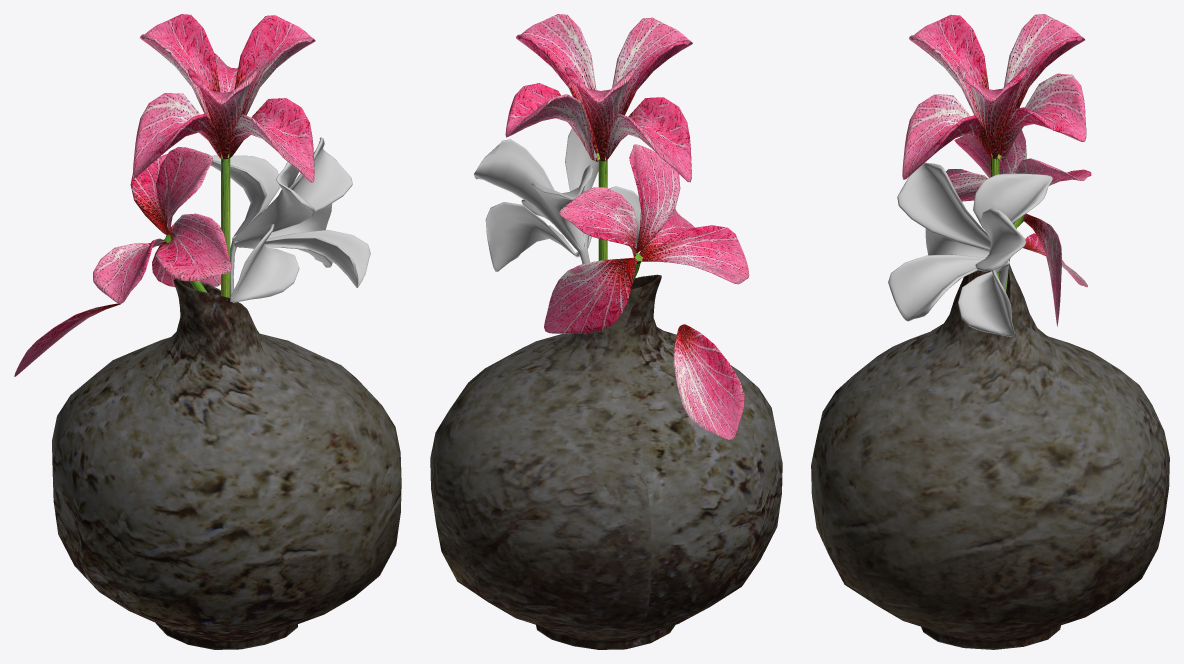
3 views of the same model, side by side, from view 1: azimuth 30°, elevation 25°; view 2: azimuth 150°, elevation 25°; view 3: azimuth 270°, elevation 25° (orthographic).
Visible parts, largest first — view 1: Vase, TallFlower_2, TallFlower_1, FlowerBase_PartialHead, FallingPetal; view 2: Vase, TallFlower_2, FlowerBase_PartialHead, TallFlower_1, FallingPetal; view 3: Vase, TallFlower_2, TallFlower_1, FlowerBase_PartialHead.
Part boxes in pixels (box(x1,y1,x2,y2)): Vase: box(52, 278, 401, 649); TallFlower_2: box(133, 14, 315, 297); TallFlower_1: box(210, 137, 370, 302); FlowerBase_PartialHead: box(93, 147, 231, 303); FallingPetal: box(14, 303, 120, 376); Vase: box(430, 274, 782, 649); TallFlower_2: box(505, 14, 692, 260); FlowerBase_PartialHead: box(544, 144, 749, 333); TallFlower_1: box(473, 128, 640, 271); FallingPetal: box(673, 324, 744, 439); Vase: box(811, 265, 1169, 649); TallFlower_2: box(902, 14, 1086, 279); TallFlower_1: box(888, 162, 1052, 336); FlowerBase_PartialHead: box(946, 130, 1091, 326).
Size of the model in its own units: 19.08 by 32.8 by 18.36.
